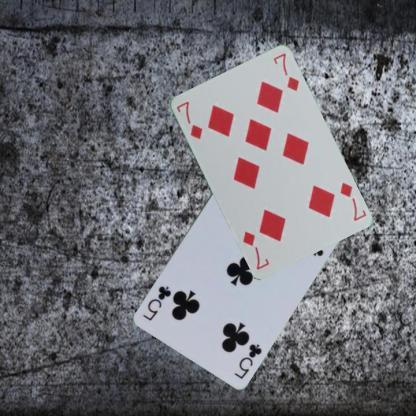5c: (231, 340, 263, 380)
7d: (336, 180, 368, 223), (174, 98, 204, 140)
